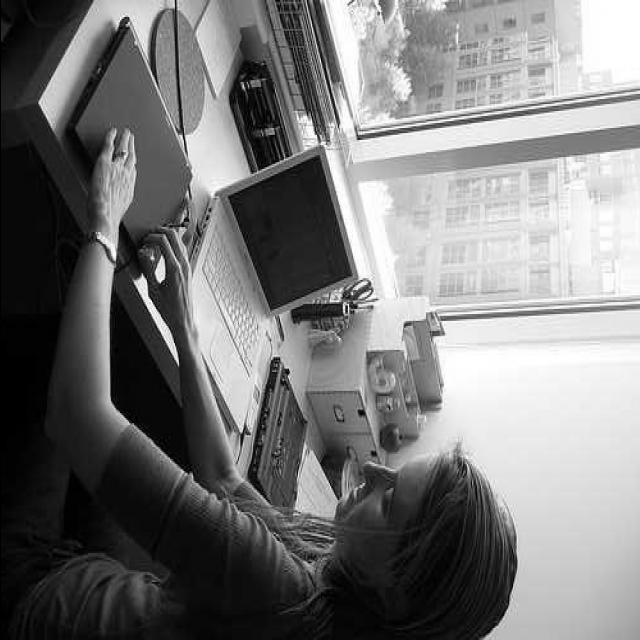laptop: (191, 157, 345, 453)
